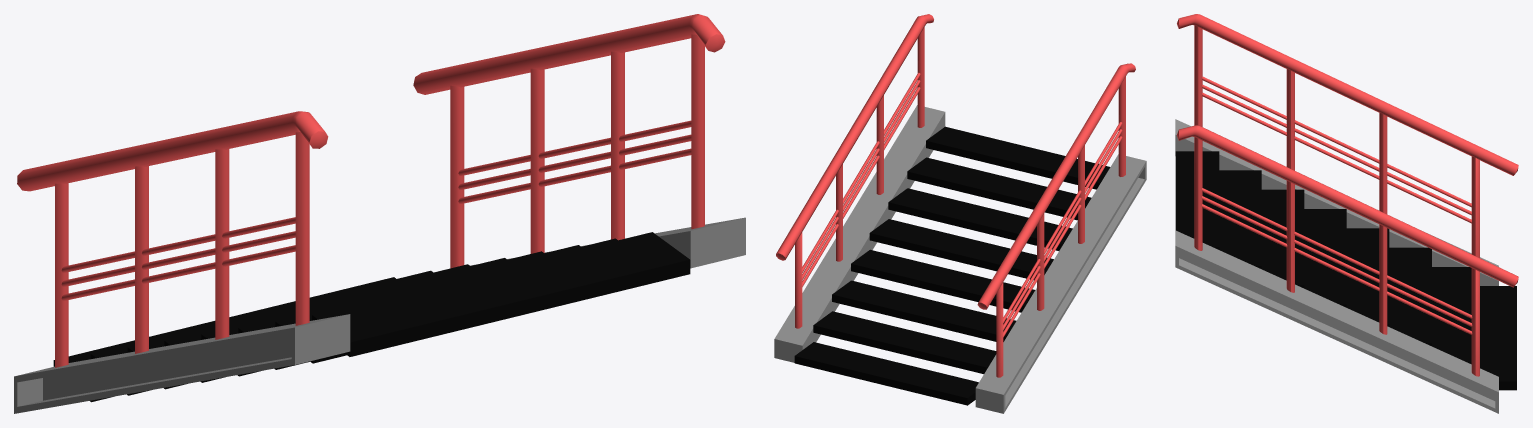
The model's file is SM_Escalier_Metalique.fbx.
The picture shows the model from 3 angles, left to right: view 1: azimuth 30°, elevation 25°; view 2: azimuth 150°, elevation 25°; view 3: azimuth 270°, elevation 25°; orthographic projection. The views are drawn at different scales.
Visible parts, largest first — view 1: SM_Escalier_Metalique; view 2: SM_Escalier_Metalique; view 3: SM_Escalier_Metalique.
Part boxes in pixels (left/top/right/bottom): SM_Escalier_Metalique: left=14, top=14, right=745, bottom=413; SM_Escalier_Metalique: left=774, top=14, right=1146, bottom=413; SM_Escalier_Metalique: left=1175, top=14, right=1518, bottom=413.
Size of the model in its own units: 324 by 371 by 335.
